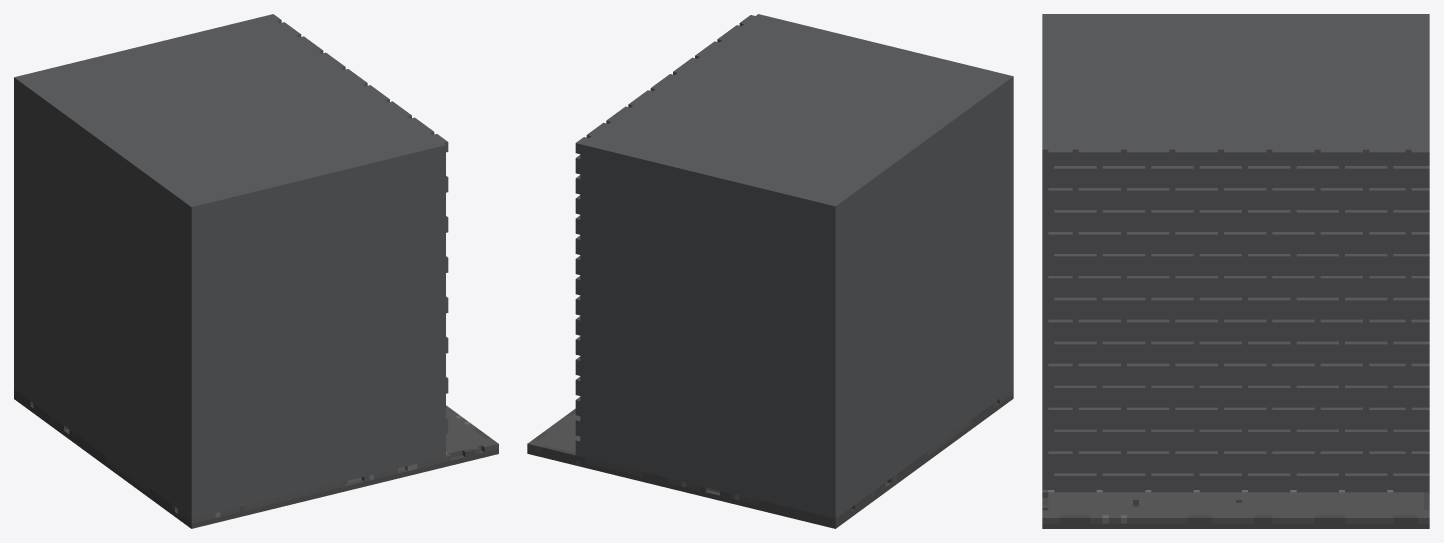
File: MapV3-56.obj
The picture shows the model from 3 angles, left to right: view 1: azimuth 30°, elevation 25°; view 2: azimuth 150°, elevation 25°; view 3: azimuth 270°, elevation 25°; orthographic projection. The views are drawn at different scales.
Bounding box in the file's own units: 6.4 × 6.4 × 6.4.
1 material, 1 textured.
